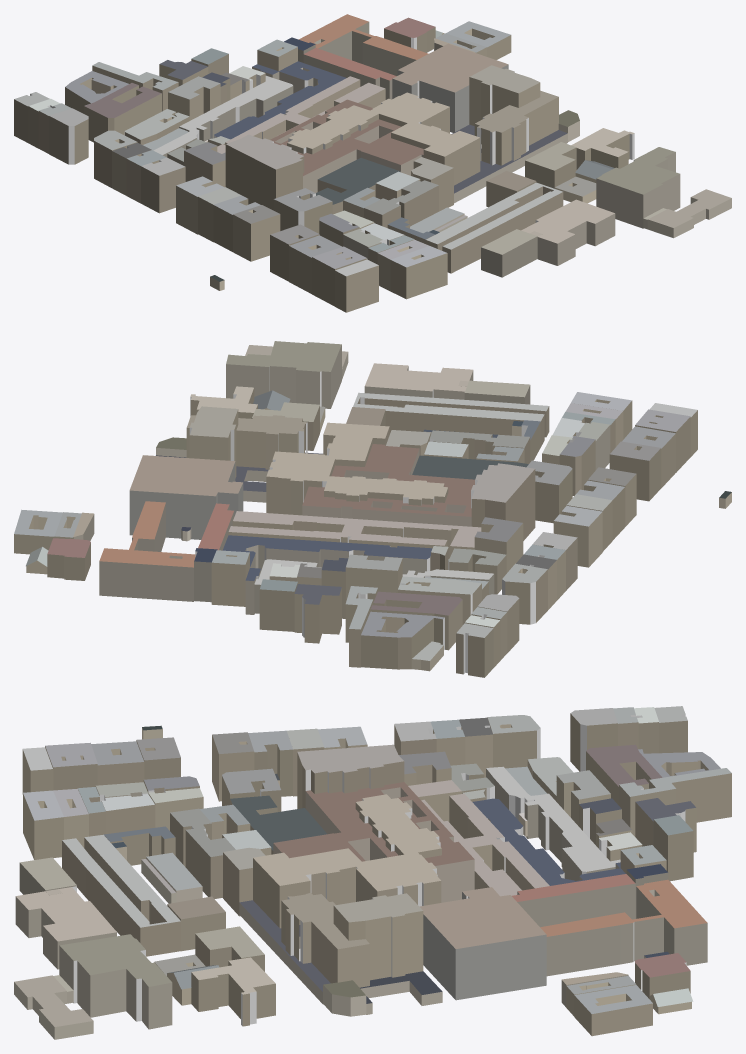
The picture shows the model from 3 angles, top to bottom: view 1: azimuth 30°, elevation 25°; view 2: azimuth 150°, elevation 25°; view 3: azimuth 270°, elevation 25°; orthographic projection. The views are drawn at different scales.
Visible parts, largest first — view 1: tuile; view 2: tuile; view 3: tuile.
Part boxes in pixels (left/top/right/bottom): tuile: left=14, top=14, right=731, bottom=312; tuile: left=14, top=341, right=731, bottom=677; tuile: left=14, top=706, right=731, bottom=1039.
Size of the model in its own units: 265 by 32.97 by 275.
